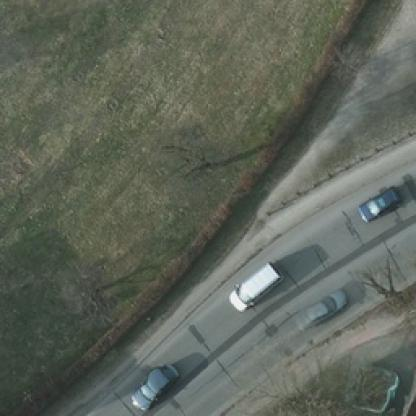car: (224, 262, 278, 308), (132, 358, 174, 413), (290, 291, 341, 325), (358, 184, 400, 221)
